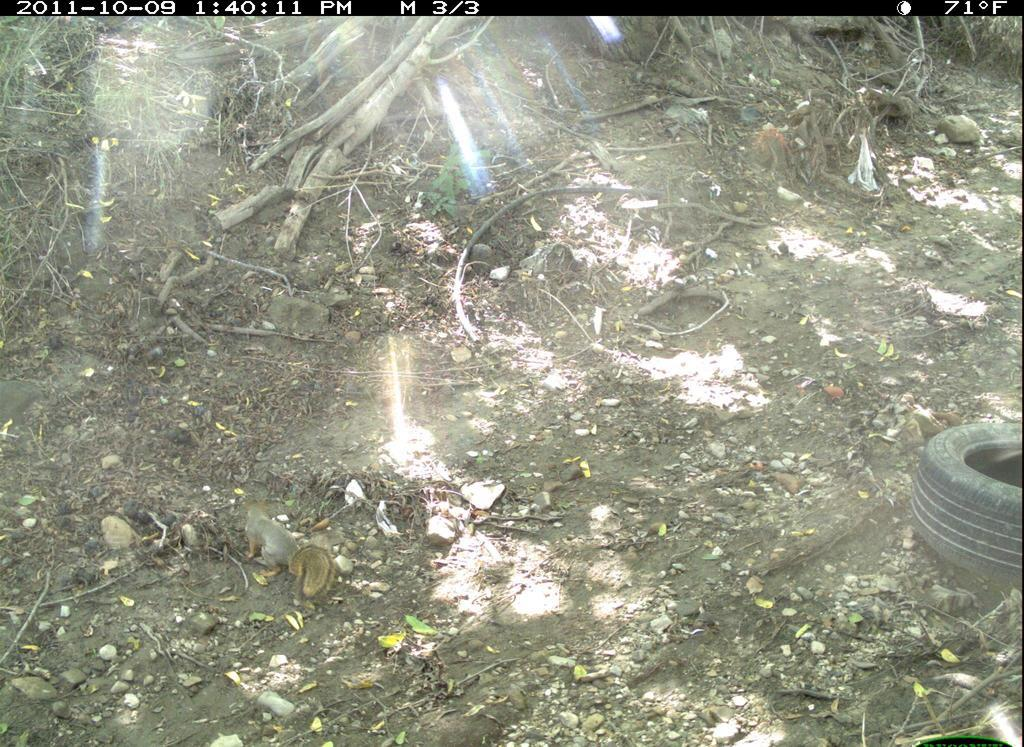squirrel: (236, 491, 345, 606)
